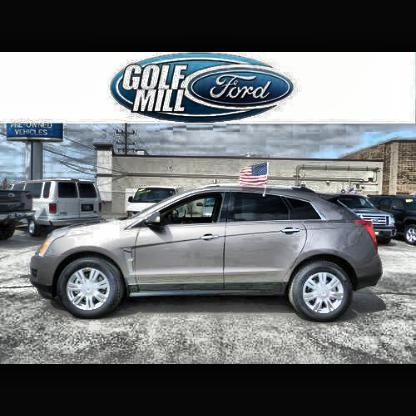Cadillac SRX SUV 2012: (31, 164, 384, 325)
